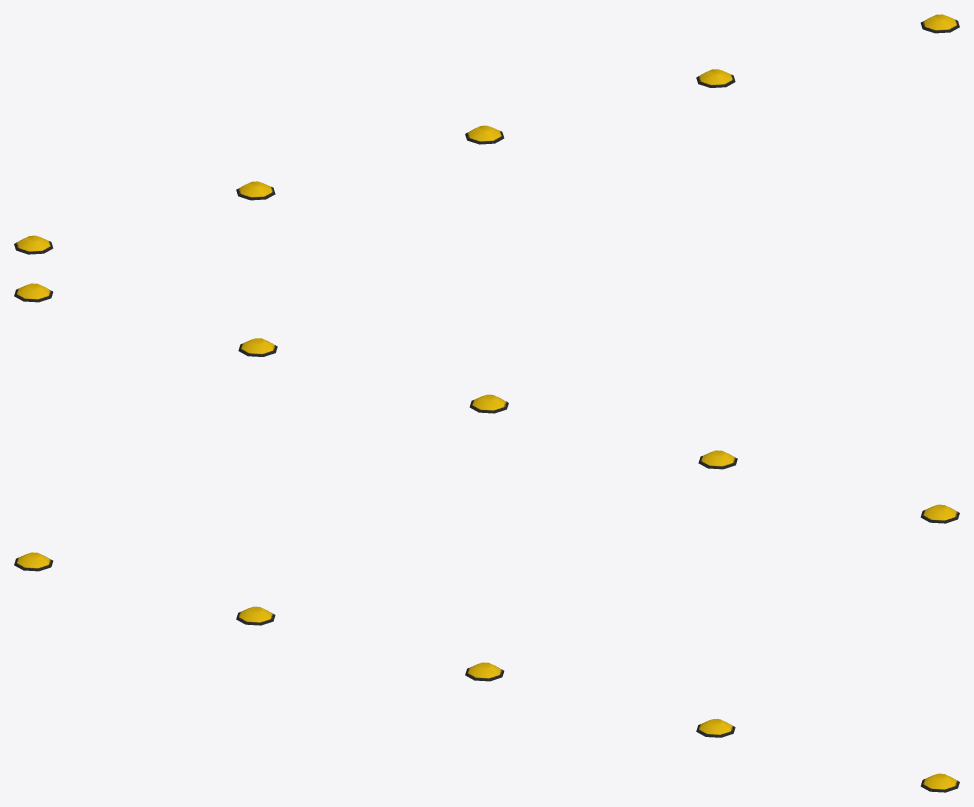
The model's file is defaultconeline.glb.
The picture shows the model from 3 angles, top to bottom: view 1: azimuth 30°, elevation 25°; view 2: azimuth 150°, elevation 25°; view 3: azimuth 330°, elevation 25°; orthographic projection.
Parts seen in each view (by area): view 1: DefaultConeLine; view 2: DefaultConeLine; view 3: DefaultConeLine.
Boxes of the visible parts, left/top/right/bottom form: DefaultConeLine: left=14, top=14, right=959, bottom=254; DefaultConeLine: left=14, top=283, right=959, bottom=523; DefaultConeLine: left=14, top=552, right=959, bottom=792.
Size of the model in its own units: 8.31 by 0.0614 by 0.312.
Materials: 1 (1 with a texture image).
